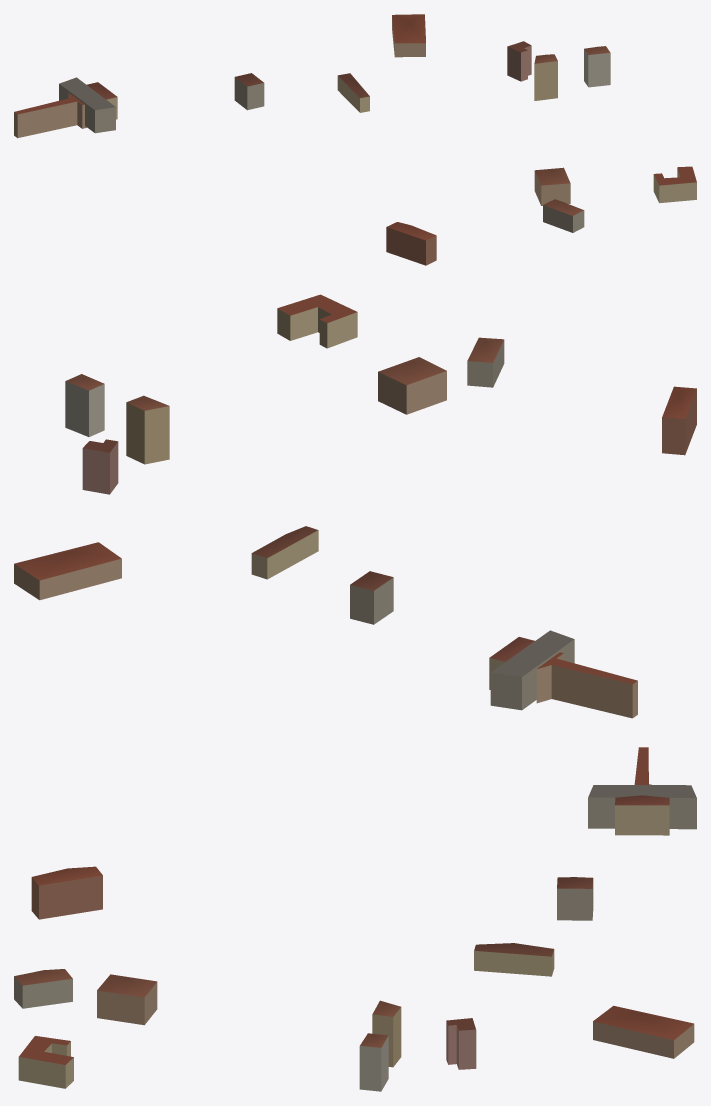
Rendered from SM_Fondale_Citta_Colle_07_LOD1.fbx.
3 renders of one model, top to bottom at view 1: azimuth 30°, elevation 25°; view 2: azimuth 150°, elevation 25°; view 3: azimuth 270°, elevation 25°, orthographic. The views are drawn at different scales.
Parts seen in each view (by area): view 1: SM_Fondale_Citta_Colle_07_LOD1; view 2: SM_Fondale_Citta_Colle_07_LOD1; view 3: SM_Fondale_Citta_Colle_07_LOD1.
Boxes of the visible parts, left/top/right/bottom form: SM_Fondale_Citta_Colle_07_LOD1: left=14, top=14, right=696, bottom=265; SM_Fondale_Citta_Colle_07_LOD1: left=14, top=294, right=696, bottom=718; SM_Fondale_Citta_Colle_07_LOD1: left=14, top=747, right=696, bottom=1091.
Size of the model in its own units: 32831 by 29158 by 3403.
